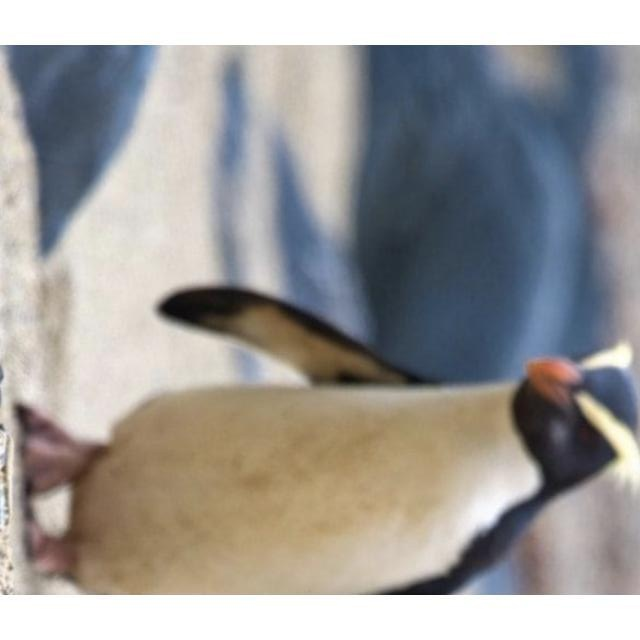penguin: (14, 285, 638, 591)
